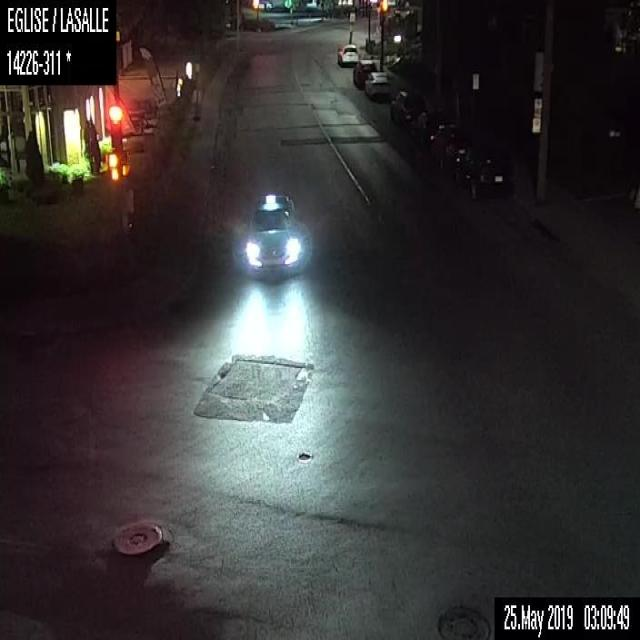vehicle: (244, 188, 298, 272), (456, 149, 511, 203), (429, 122, 469, 171), (388, 90, 428, 132), (363, 70, 392, 100), (352, 59, 376, 90), (337, 42, 358, 66)
